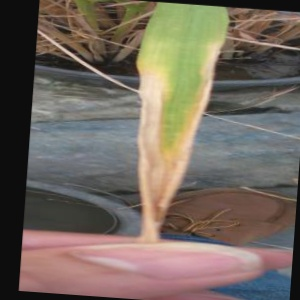Leaf_Blast: (130, 19, 215, 236)
